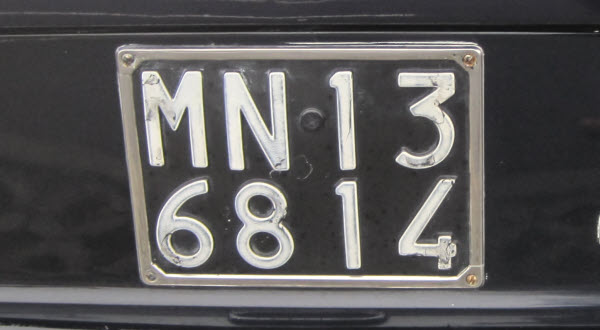license_plate: (113, 41, 484, 288)
